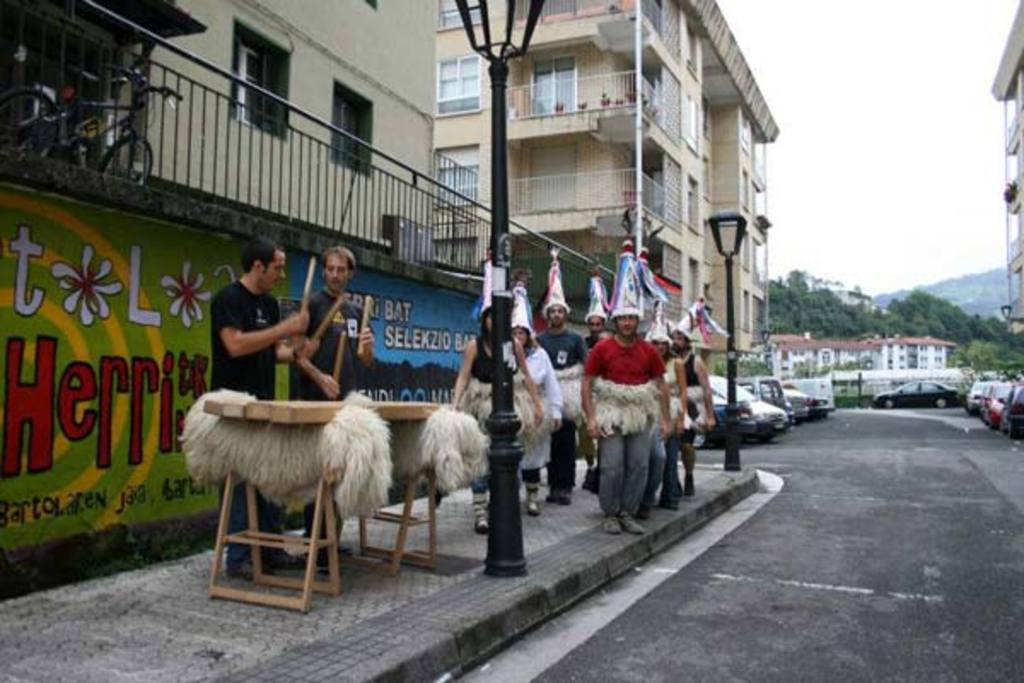Footwear: (620, 509, 647, 536), (474, 492, 488, 533), (527, 482, 539, 512), (602, 516, 618, 534), (556, 485, 570, 505), (683, 478, 693, 492), (546, 490, 553, 499)
